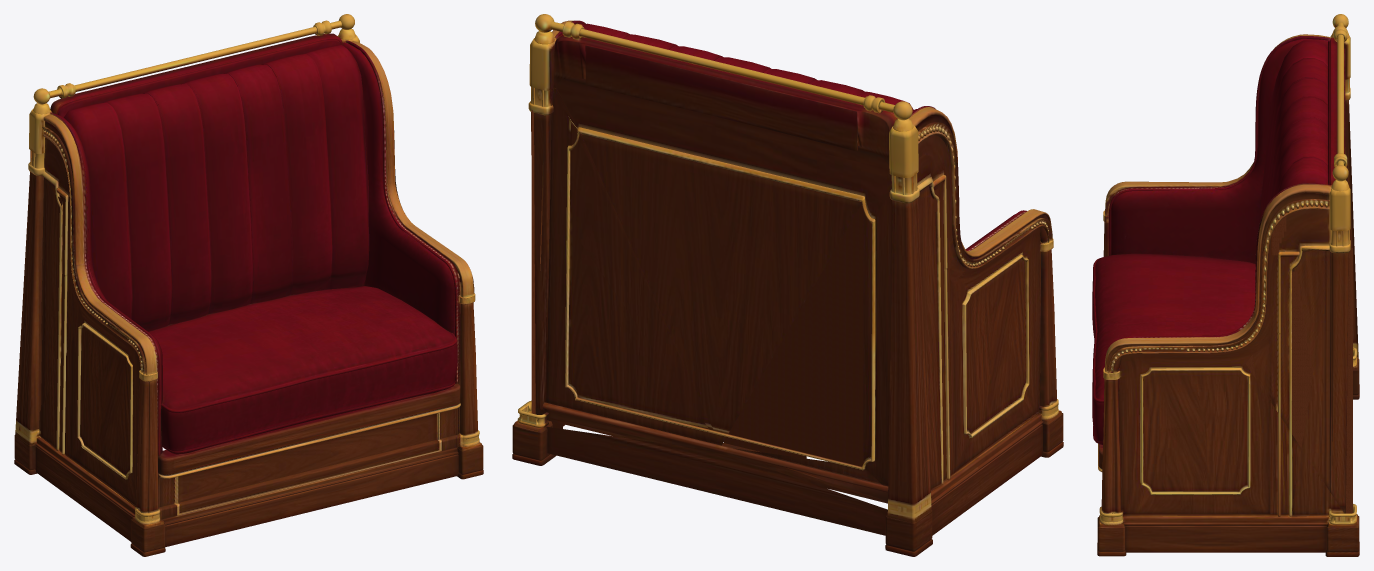
Rendered from restaurant-banquette.glb.
3 renders of one model, left to right at view 1: azimuth 30°, elevation 25°; view 2: azimuth 150°, elevation 25°; view 3: azimuth 270°, elevation 25°, orthographic. The views are drawn at different scales.
Visible parts, largest first — view 1: SM_BT_RestaurantBanquette; view 2: SM_BT_RestaurantBanquette; view 3: SM_BT_RestaurantBanquette.
Boxes of the visible parts, <box> form: SM_BT_RestaurantBanquette: <box>14,14,483,556</box>; SM_BT_RestaurantBanquette: <box>512,14,1063,556</box>; SM_BT_RestaurantBanquette: <box>1092,14,1359,556</box>.
Bounding box in the file's own units: 1.1 × 1.15 × 0.7314.
Materials: 1 (1 with a texture image).
